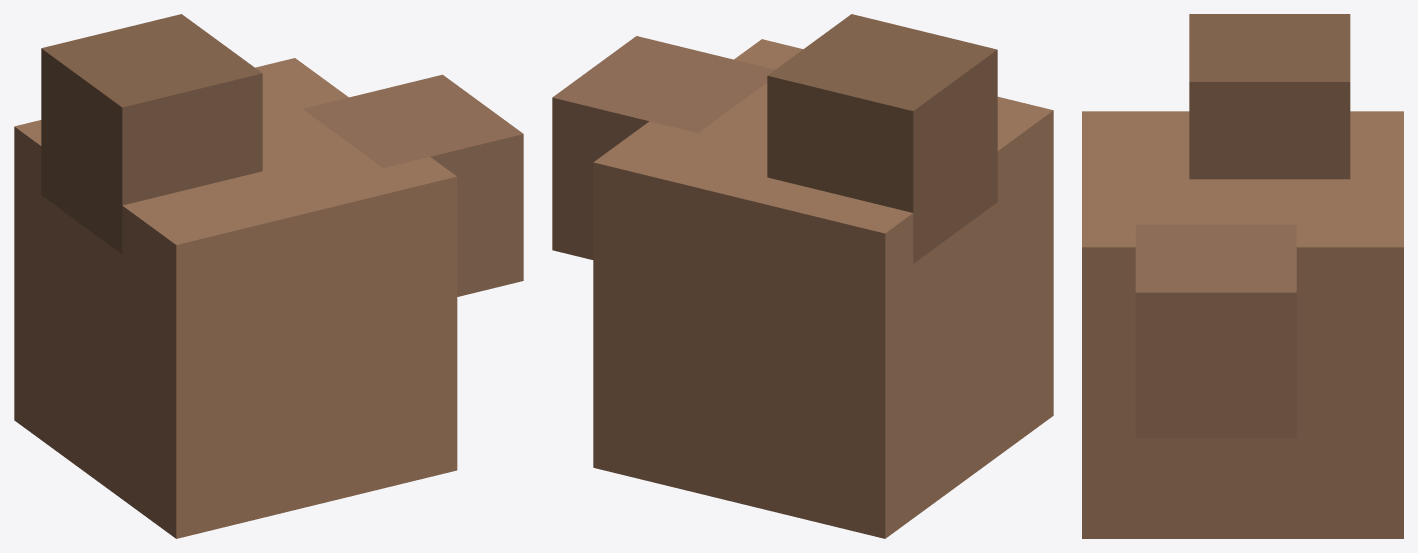
The model's file is regadera_oxidado_01.glb.
3 renders of one model, left to right at view 1: azimuth 30°, elevation 25°; view 2: azimuth 150°, elevation 25°; view 3: azimuth 270°, elevation 25°, orthographic. The views are drawn at different scales.
Visible parts, largest first — view 1: regadera_oxidado; view 2: regadera_oxidado; view 3: regadera_oxidado.
Part boxes in pixels (box(x1,y1,x2,y2)): regadera_oxidado: box(14, 14, 523, 538); regadera_oxidado: box(552, 14, 1053, 538); regadera_oxidado: box(1082, 14, 1403, 538).
Bounding box in the file's own units: 0.5714 × 0.5714 × 0.4286.
